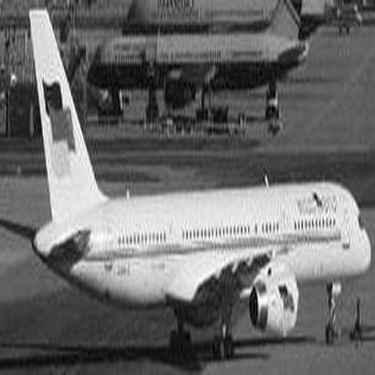airplane: (1, 9, 373, 363), (85, 8, 309, 89), (99, 8, 334, 41)
